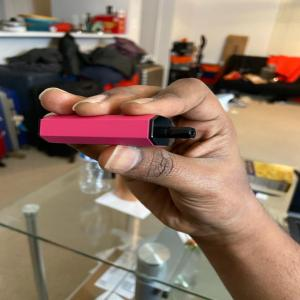Blume-E-Ciggirate: (36, 111, 200, 150)
